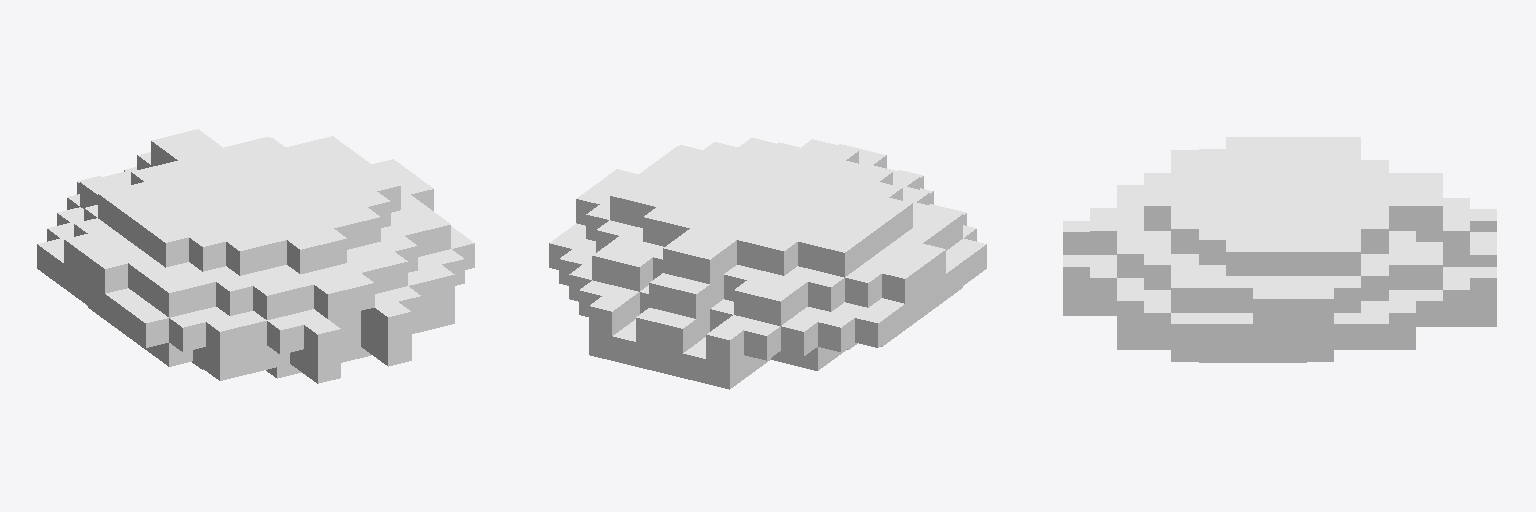
File: LightTankTower.obj
The picture shows the model from 3 angles: view 1: azimuth 30°, elevation 25°; view 2: azimuth 150°, elevation 25°; view 3: azimuth 270°, elevation 25°; orthographic projection.
Parts seen in each view (by area): view 1: object 1; view 2: object 1; view 3: object 1.
Boxes of the visible parts, box(x1,y1,x2,y2) form: object 1: box(37, 129, 474, 383); object 1: box(549, 138, 986, 389); object 1: box(1063, 137, 1496, 362).
Bounding box in the file's own units: 1.4 × 0.5 × 1.6.